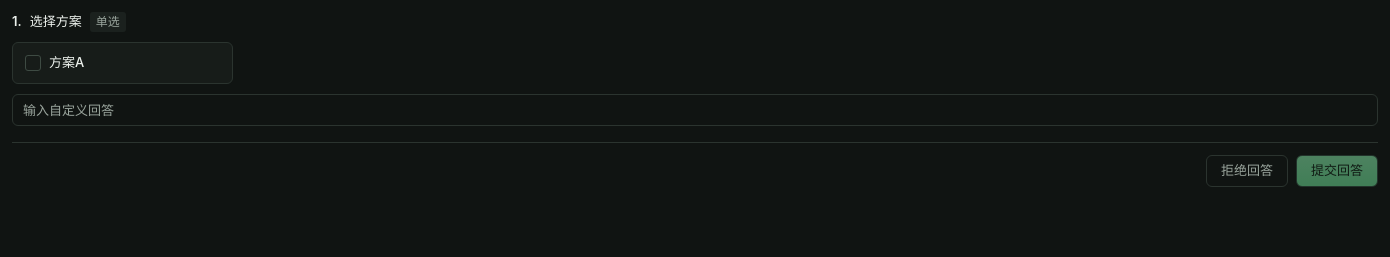
Test: Interactions Acceptance Suite (Spec §5) › Scenario 3: 取消竞争 — 遇到 409 冲突后提示事项已变更，保留草稿查看且禁止继续提交
Click the button "方案A": (122, 63) [12,42,233,84]
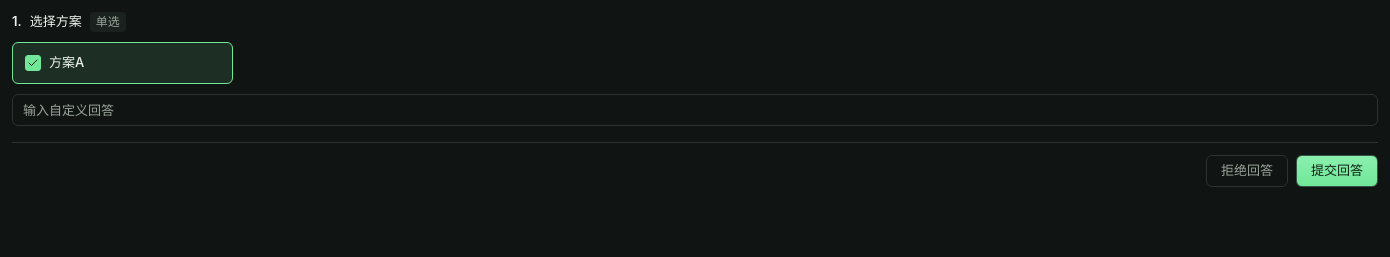
Click the button "提交回答": (1337, 170) [1296,154,1378,186]
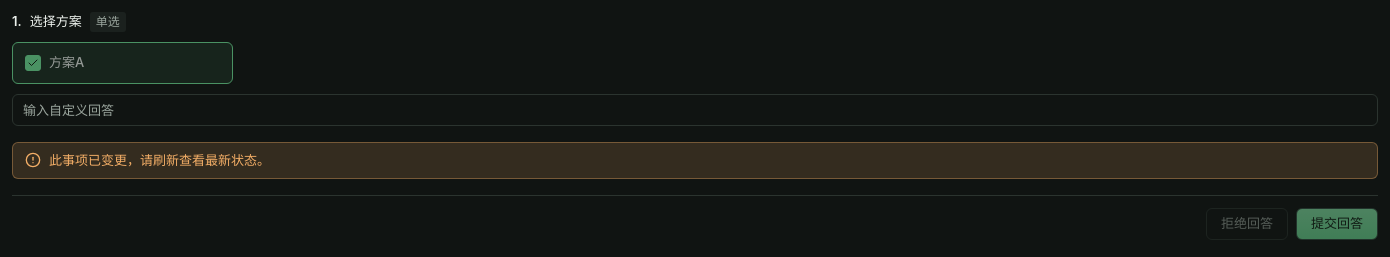
Expected: the text "此事项已变更，请刷新查看最新状态。" is shown, [49,150,270,170]
Expected: the button "提交回答" is disabled, [1296,208,1378,240]
